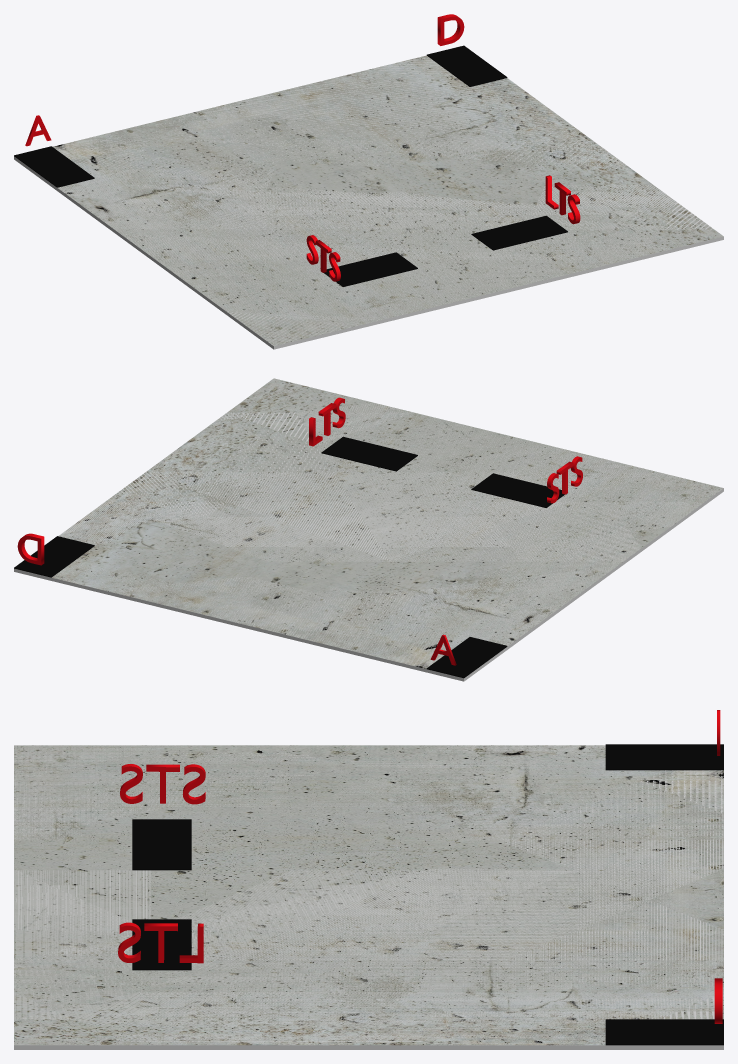
The model's file is floor.dae.
The picture shows the model from 3 angles, top to bottom: view 1: azimuth 30°, elevation 25°; view 2: azimuth 150°, elevation 25°; view 3: azimuth 270°, elevation 25°; orthographic projection. The views are drawn at different scales.
Parts seen in each view (by area): view 1: Plane, Cube, Cube.005, Cube.002, Cube.001, Cube.003, Text.003, Text.002, Text.001; view 2: Plane, Cube, Cube.005, Cube.002, Cube.003, Cube.001, Text.003, Text.002, Text.001; view 3: Plane, Cube, Cube.001, Cube.002, Cube.003, Cube.005, Text.002, Text.003.
Part boxes in pixels (x1,y1,x2,y2): Plane: (52, 56, 723, 345); Cube: (14, 55, 723, 349); Cube.005: (471, 215, 567, 250); Cube.002: (14, 146, 94, 187); Cube.001: (426, 45, 507, 86); Cube.003: (323, 252, 417, 286); Text.003: (545, 175, 580, 224); Text.002: (306, 235, 340, 281); Text.001: (437, 14, 464, 45); Plane: (52, 378, 723, 668); Cube: (14, 392, 723, 681); Cube.005: (321, 436, 417, 471); Cube.002: (426, 637, 507, 678); Cube.003: (471, 473, 564, 507); Cube.001: (14, 536, 94, 577); Text.003: (309, 397, 345, 446); Text.002: (547, 456, 582, 503); Text.001: (17, 533, 44, 565); Plane: (14, 745, 723, 1045); Cube: (14, 745, 723, 1049); Cube.001: (605, 1019, 723, 1045); Cube.002: (605, 744, 723, 770); Cube.003: (132, 819, 191, 870); Cube.005: (132, 919, 191, 970); Text.002: (120, 764, 205, 804); Text.003: (118, 922, 203, 963).
Size of the model in its own units: 12 by 12 by 1.01.
Materials: 8 (1 with a texture image).
